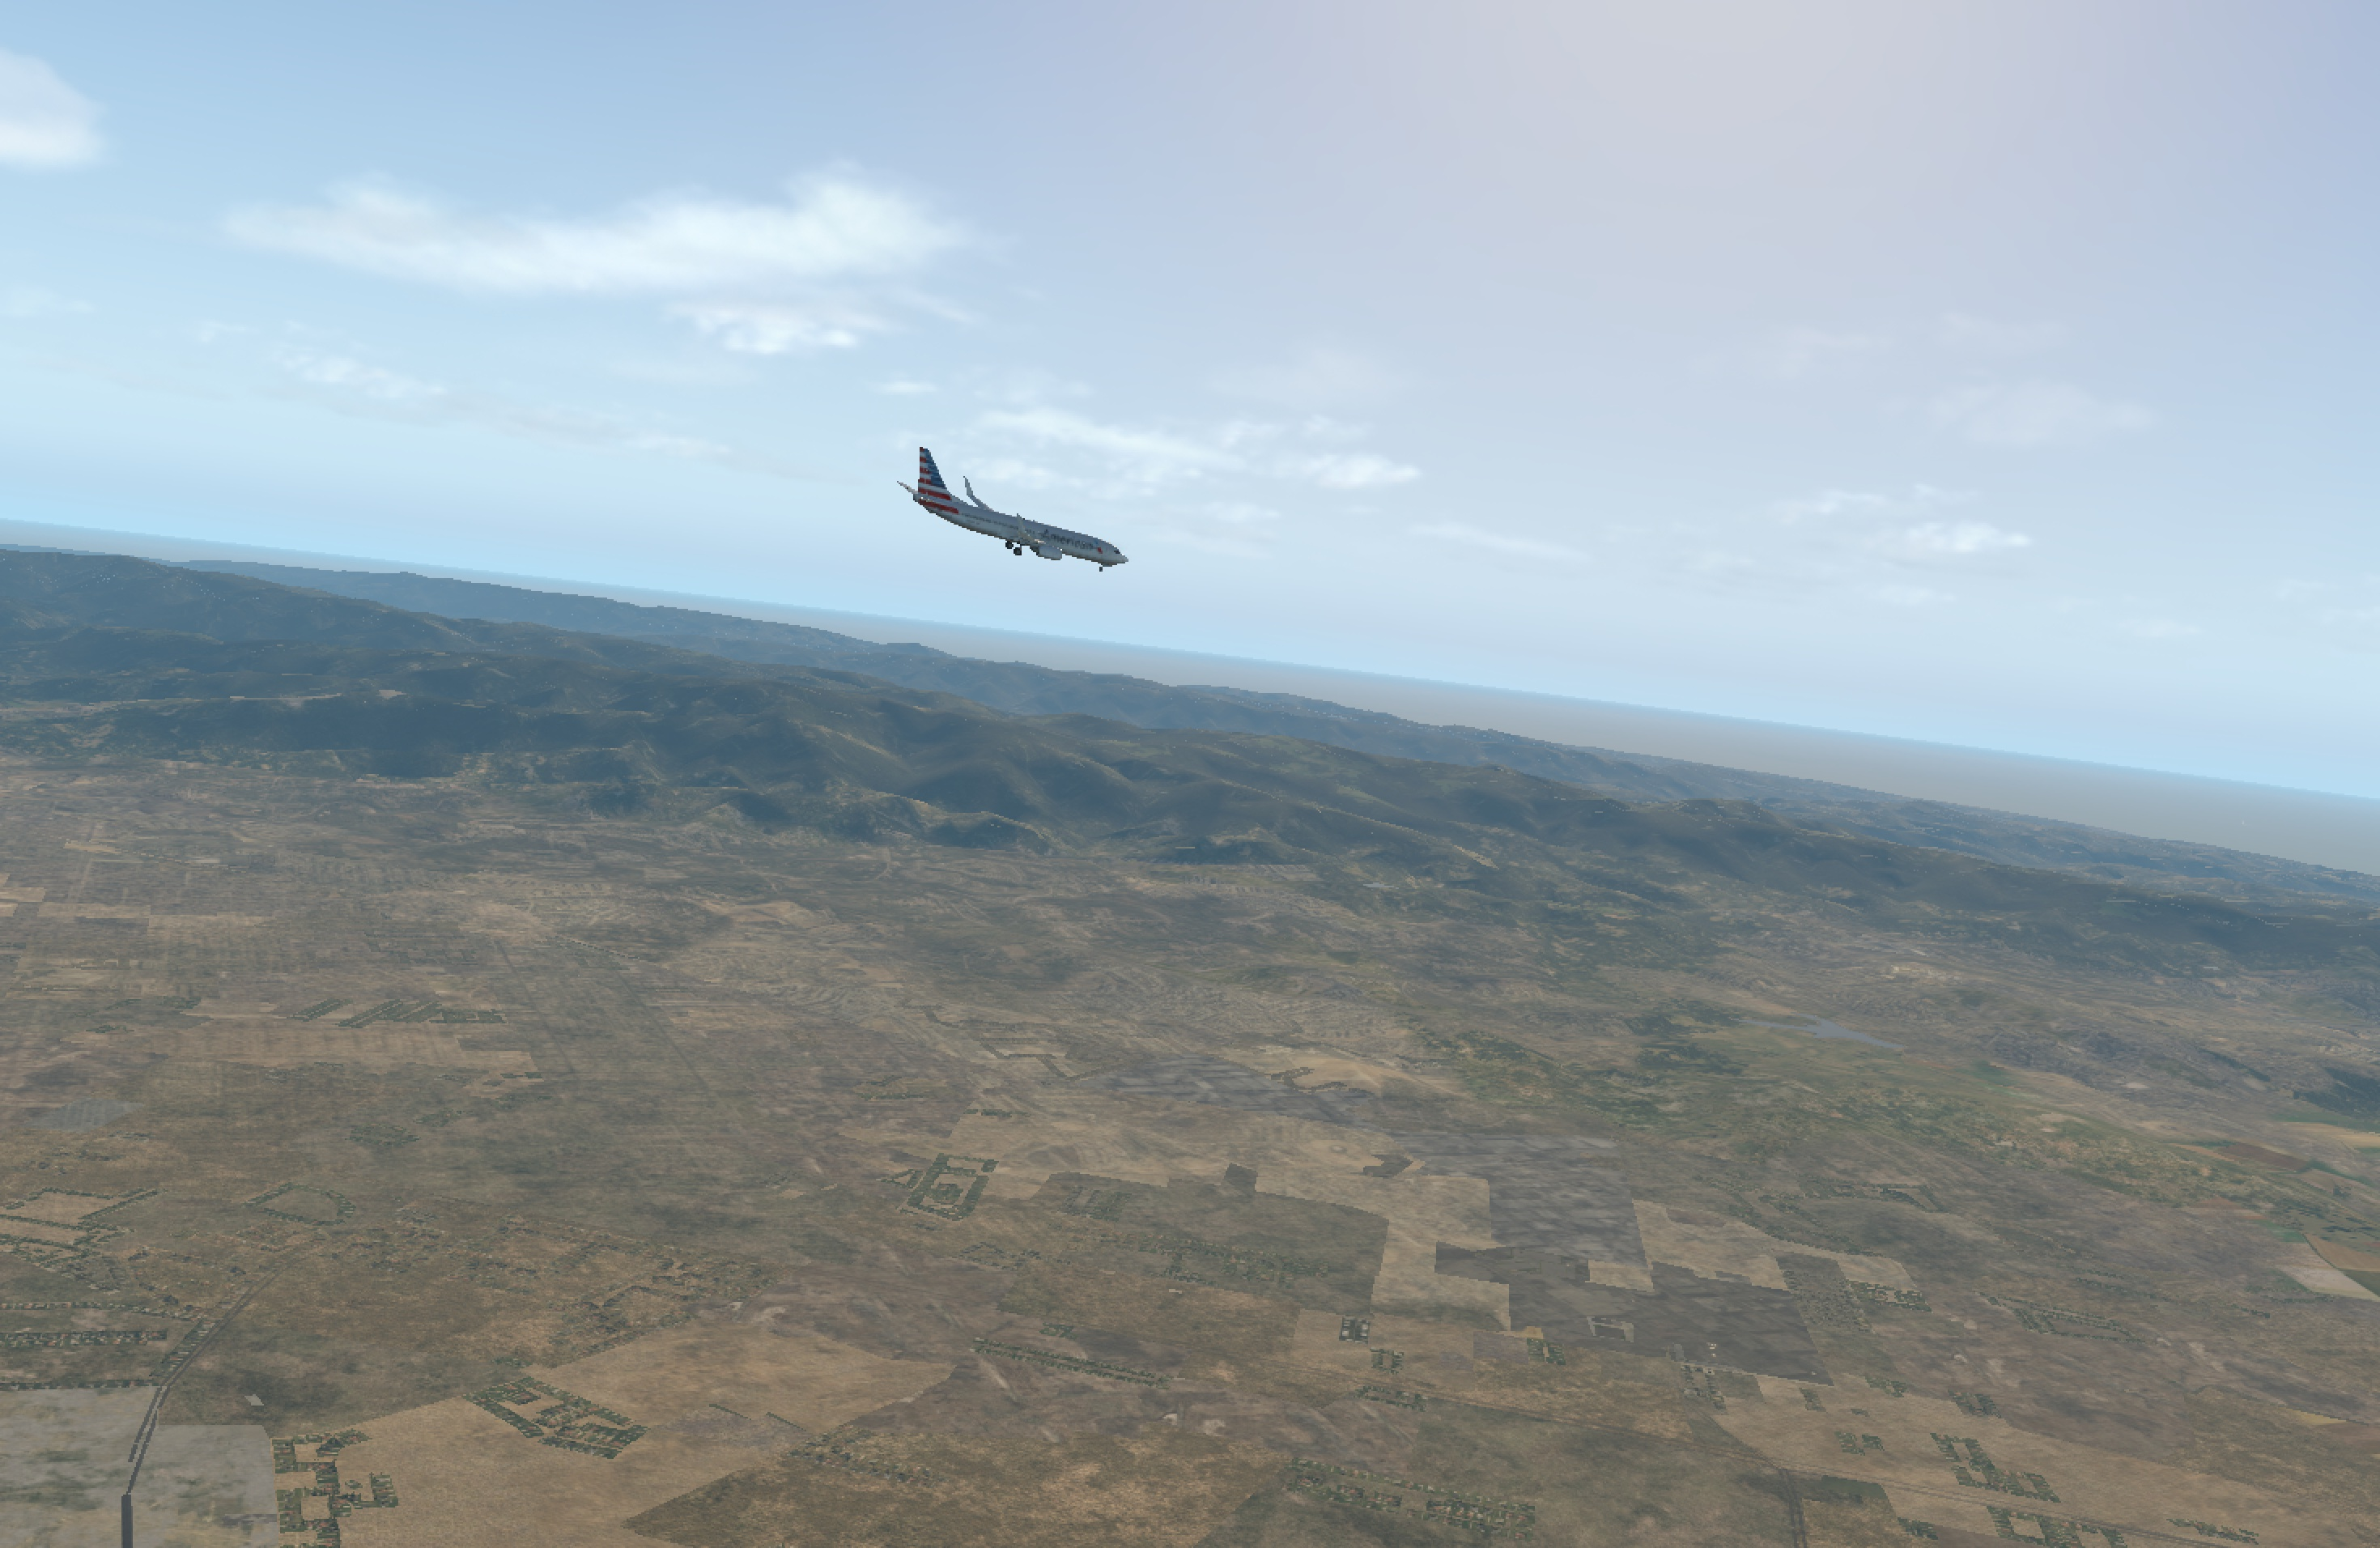aircraft: (907, 491, 1145, 581)
